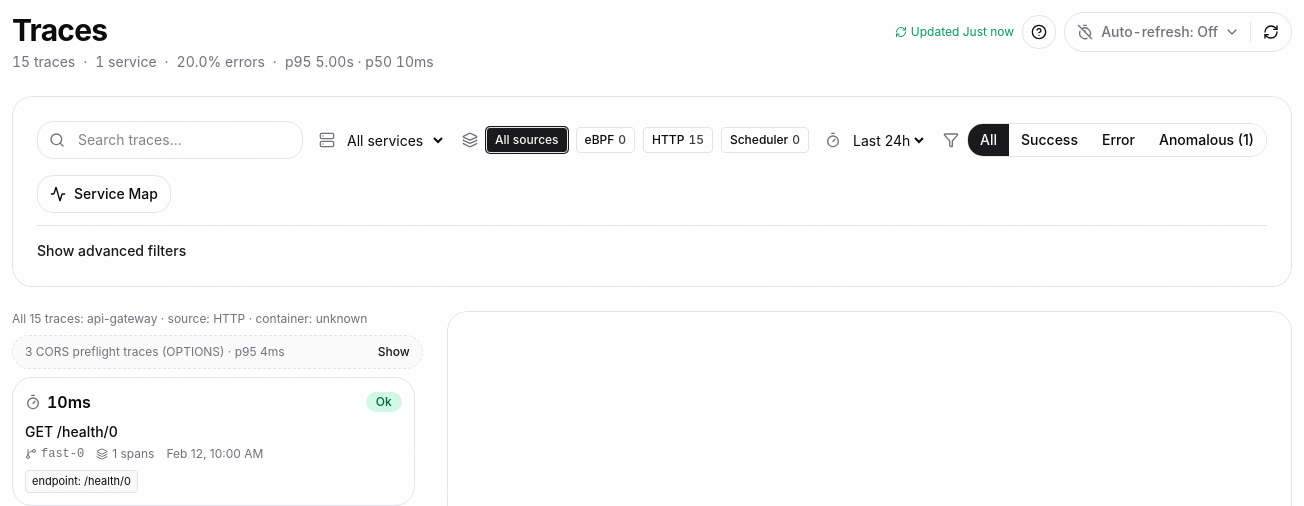
Test case: TraceExplorerPage › filters to the traces the detector threshold would flag
The image size is (1304, 506).
What coordinates should you click on to do the following:
click the button "Anomalous (1)"
I would click on:
 (1206, 140)
Its box is [1147,124,1266,156].
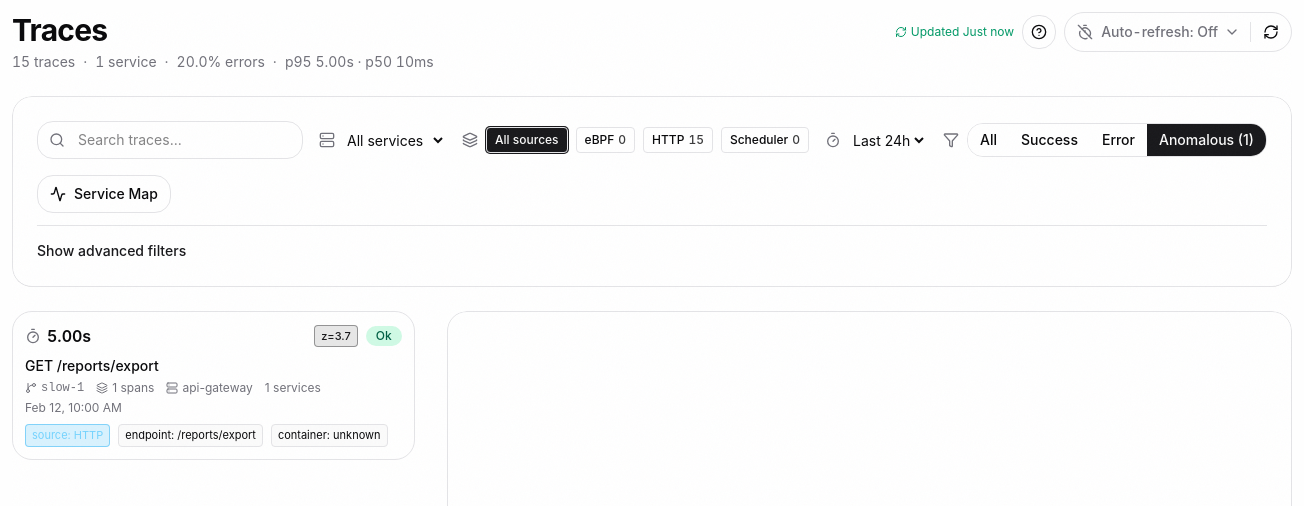
Expected: the text "GET /reports/export" is shown, [25,357,159,374]
Expected: the button "GET /health/0" is gone
